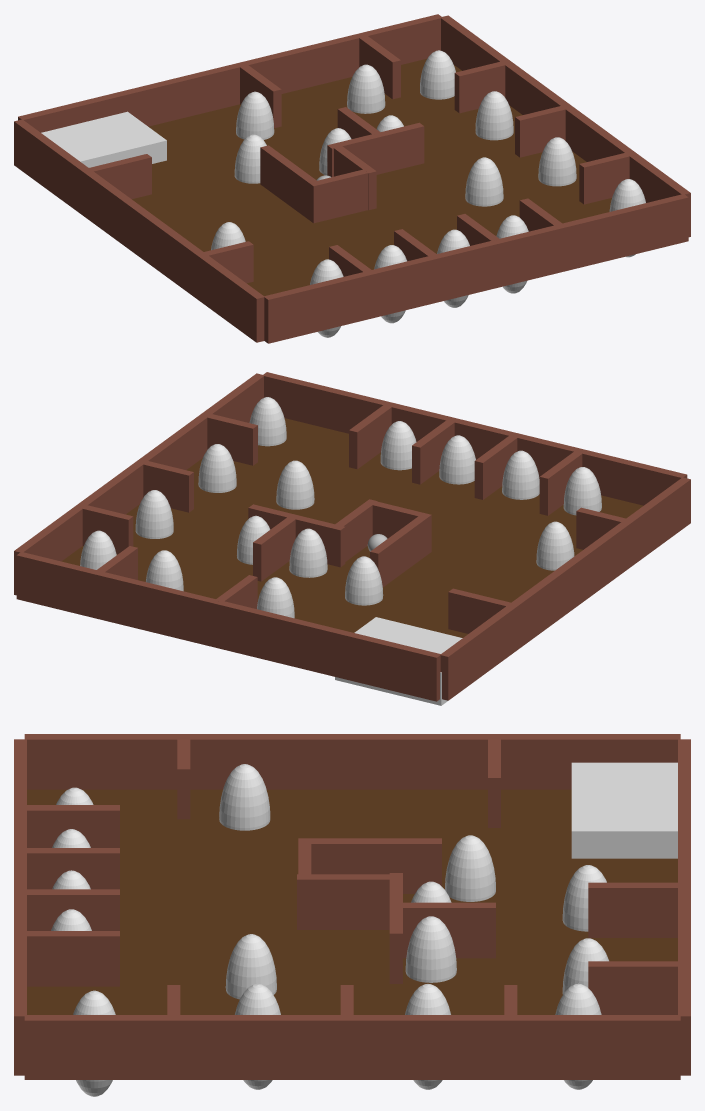
The model's file is Labyrinth.fbx.
The picture shows the model from 3 angles, top to bottom: view 1: azimuth 30°, elevation 25°; view 2: azimuth 150°, elevation 25°; view 3: azimuth 270°, elevation 25°; orthographic projection. The views are drawn at different scales.
Visible parts, largest first — view 1: Cube, Cube.008, Cube.009, Cube.006, Cube.007, Cube.021, Cube.004, Cube.002, Cube.001, Cube.012, Cube.014, Cube.013 (+24 smaller); view 2: Cube, Cube.009, Cube.006, Cube.008, Cube.007, Cube.002, Cube.021, Cube.004, Cube.014, Cube.012, Cube.005, Cube.020 (+25 smaller); view 3: Cube, Cube.007, Cube.006, Cube.021, Cube.002, Cube.003, Cube.015, Cube.010, Cube.011, Cube.008, Cube.009, Cube.005 (+18 smaller).
Part boxes in pixels (x1,y1,x2,y2): Cube: (132, 58, 611, 296); Cube.008: (264, 194, 688, 343); Cube.009: (18, 14, 442, 132); Cube.006: (14, 119, 264, 342); Cube.007: (441, 15, 690, 237); Cube.021: (41, 111, 166, 167); Cube.004: (327, 122, 424, 177); Cube.002: (260, 145, 321, 223); Cube.001: (317, 169, 367, 221); Cube.012: (515, 106, 565, 157); Cube.014: (579, 153, 629, 204); Cube.013: (454, 61, 505, 113); Cube: (61, 418, 643, 637); Cube.009: (16, 552, 440, 701); Cube.006: (440, 477, 690, 700); Cube.008: (262, 372, 687, 505); Cube.007: (14, 373, 263, 595); Cube.002: (370, 513, 431, 587); Cube.021: (335, 617, 462, 705); Cube.004: (248, 504, 345, 567); Cube.014: (207, 414, 257, 465); Cube.012: (143, 461, 193, 512); Cube.005: (253, 517, 295, 581); Cube.020: (448, 588, 510, 633); Cube: (27, 789, 677, 1014); Cube.007: (24, 1015, 680, 1079); Cube.006: (24, 734, 680, 789); Cube.021: (571, 762, 677, 858); Cube.002: (298, 838, 441, 893); Cube.003: (297, 874, 391, 929); Cube.015: (25, 931, 119, 986); Cube.010: (588, 882, 682, 937); Cube.011: (588, 961, 682, 1014); Cube.008: (14, 739, 26, 1075); Cube.009: (678, 739, 690, 1075); Cube.005: (401, 902, 495, 958).
Size of the model in its own units: 20731 by 3505 by 20700.
